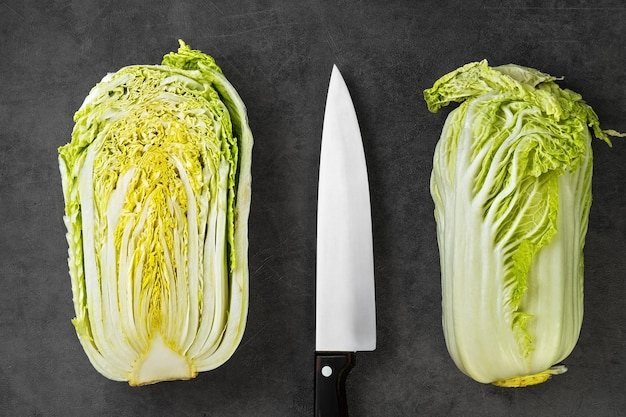knife: (314, 64, 376, 417)
